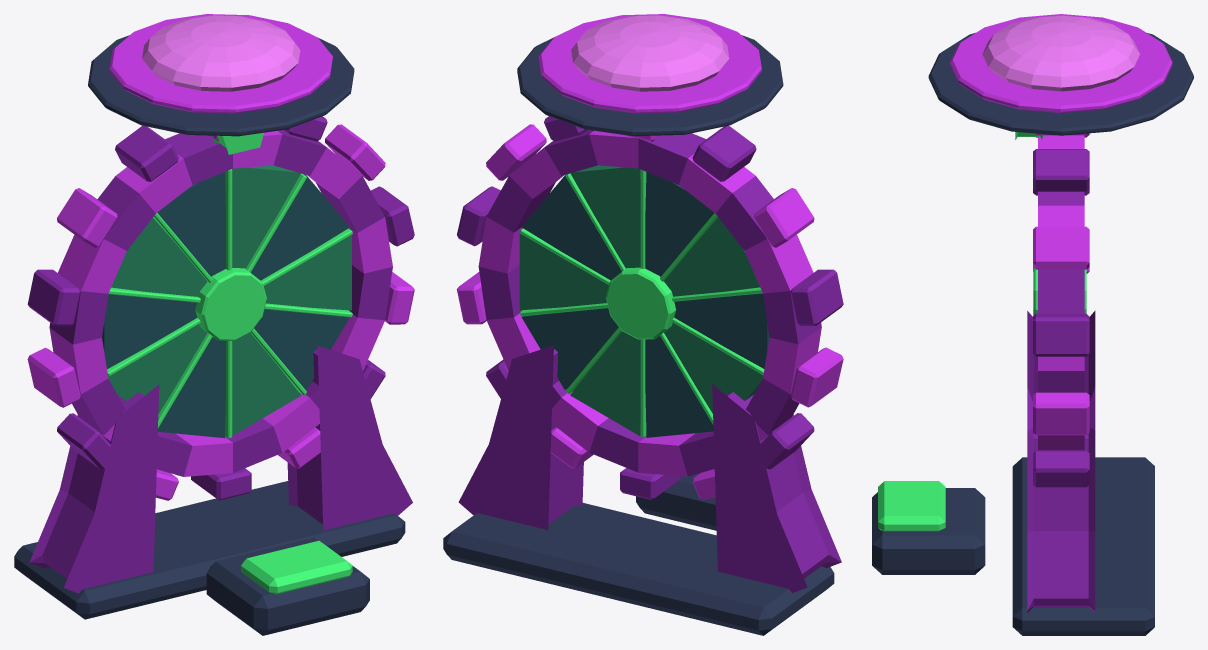
Rendered from PF_AlienWheel.fbx.
3 views of the same model, side by side, from view 1: azimuth 30°, elevation 25°; view 2: azimuth 150°, elevation 25°; view 3: azimuth 270°, elevation 25° (orthographic).
Parts seen in each view (by area): view 1: WheelSegments, WheelOuterRim, DecorativeBlocks, StandBase, Support_Left, Support_Right, UFO_Dome, UFO_PurpleRing, UFO_LowerDisc, SpinButtonBase, WheelDividers, CenterHub (+2 smaller); view 2: WheelSegments, WheelOuterRim, StandBase, DecorativeBlocks, Support_Left, Support_Right, UFO_Dome, UFO_PurpleRing, UFO_LowerDisc, WheelDividers, CenterHub, SpinButtonBase; view 3: StandBase, DecorativeBlocks, Support_Right, UFO_Dome, UFO_PurpleRing, UFO_LowerDisc, WheelOuterRim, SpinButtonBase, SpinButtonTop, Support_Left.
Boxes of the visible parts, x1=… form: WheelSegments: x1=102, y1=165, x2=351, y2=438; WheelOuterRim: x1=49, y1=130, x2=392, y2=476; DecorativeBlocks: x1=27, y1=116, x2=414, y2=500; StandBase: x1=14, y1=481, x2=405, y2=619; Support_Left: x1=29, y1=384, x2=159, y2=593; Support_Right: x1=287, y1=346, x2=412, y2=530; UFO_Dome: x1=142, y1=15, x2=300, y2=91; UFO_PurpleRing: x1=109, y1=14, x2=332, y2=113; UFO_LowerDisc: x1=88, y1=35, x2=354, y2=136; SpinButtonBase: x1=206, y1=537, x2=369, y2=635; WheelDividers: x1=107, y1=169, x2=352, y2=438; CenterHub: x1=195, y1=268, x2=266, y2=340; WheelSegments: x1=519, y1=165, x2=769, y2=437; WheelOuterRim: x1=478, y1=130, x2=821, y2=476; StandBase: x1=443, y1=503, x2=834, y2=635; DecorativeBlocks: x1=457, y1=116, x2=843, y2=500; Support_Left: x1=712, y1=384, x2=841, y2=593; Support_Right: x1=458, y1=345, x2=583, y2=529; UFO_Dome: x1=571, y1=15, x2=729, y2=91; UFO_PurpleRing: x1=538, y1=14, x2=761, y2=113; UFO_LowerDisc: x1=517, y1=35, x2=783, y2=136; WheelDividers: x1=520, y1=169, x2=764, y2=437; CenterHub: x1=605, y1=267, x2=675, y2=339; SpinButtonBase: x1=636, y1=473, x2=716, y2=530; StandBase: x1=1012, y1=457, x2=1154, y2=635; DecorativeBlocks: x1=1033, y1=133, x2=1089, y2=487; Support_Right: x1=1027, y1=387, x2=1095, y2=612; UFO_Dome: x1=982, y1=15, x2=1139, y2=91; UFO_PurpleRing: x1=950, y1=14, x2=1172, y2=113; UFO_LowerDisc: x1=928, y1=32, x2=1193, y2=135; WheelOuterRim: x1=1038, y1=135, x2=1084, y2=450; SpinButtonBase: x1=872, y1=488, x2=985, y2=574; SpinButtonTop: x1=878, y1=481, x2=945, y2=531; Support_Left: x1=1027, y1=310, x2=1095, y2=401.
Size of the model in its own units: 6.37 by 9 by 4.98.
